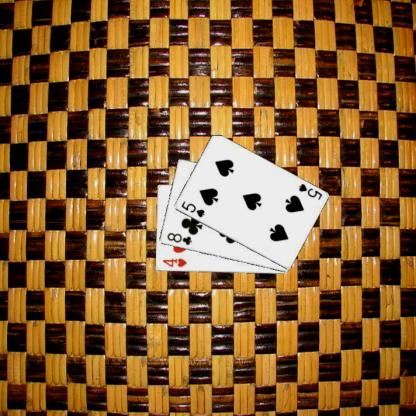4H: (160, 256, 188, 269)
5S: (178, 198, 206, 219), (296, 181, 323, 201)
8C: (164, 230, 193, 247)
